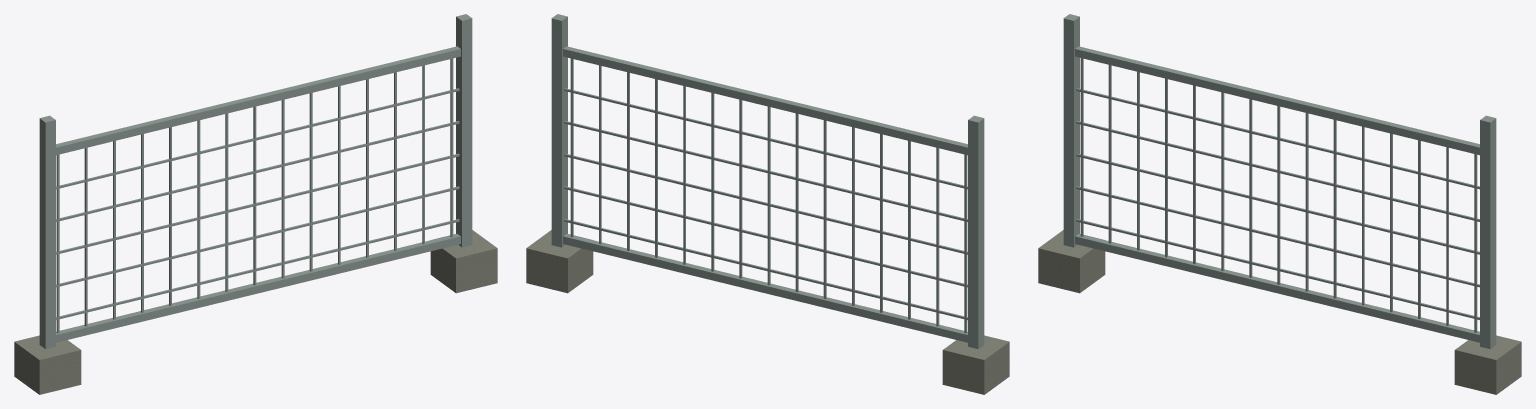
The model's file is fence_4m.glb.
3 renders of one model, left to right at view 1: azimuth 30°, elevation 25°; view 2: azimuth 150°, elevation 25°; view 3: azimuth 330°, elevation 25°, orthographic.
Visible parts, largest first — view 1: fence_4m; view 2: fence_4m; view 3: fence_4m.
Part boxes in pixels (x1,y1,x2,y2): fence_4m: [14, 14, 497, 394]; fence_4m: [526, 14, 1009, 394]; fence_4m: [1038, 14, 1521, 394].
Size of the model in its own units: 4.4 by 2.4 by 0.42.
Materials: 2 (1 with a texture image).
